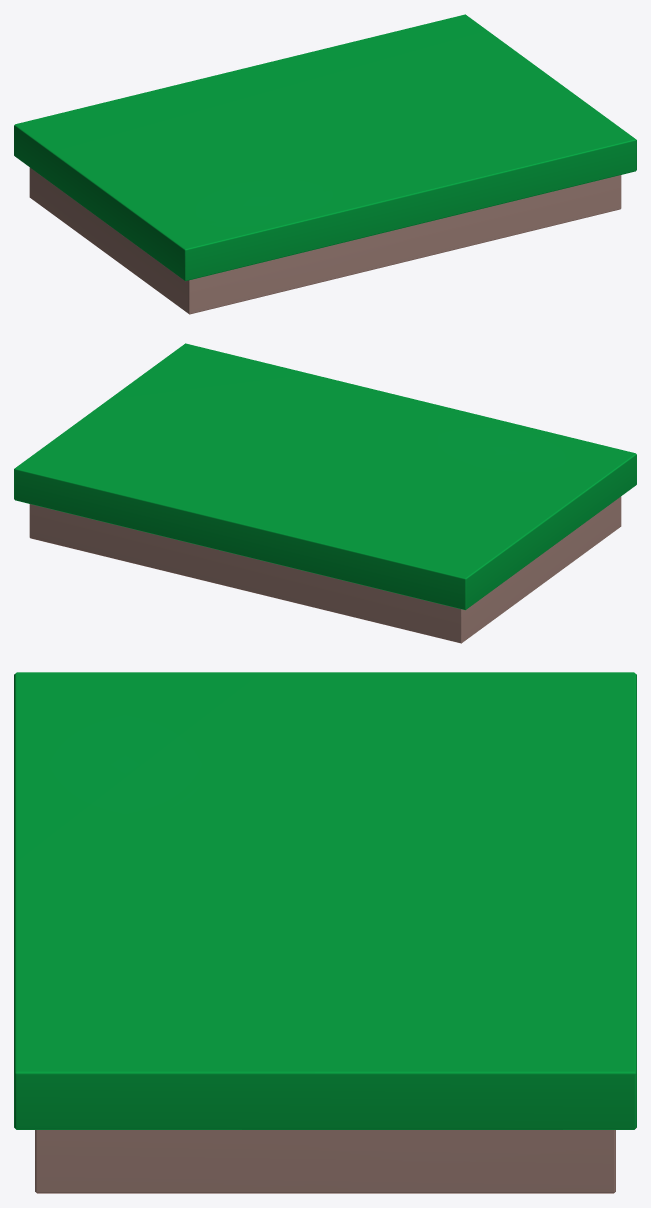
The model's file is Farm_16_Base_1.glb.
3 views of the same model, one above another, from view 1: azimuth 30°, elevation 25°; view 2: azimuth 150°, elevation 25°; view 3: azimuth 270°, elevation 25° (orthographic). The views are drawn at different scales.
Parts seen in each view (by area): view 1: Farm_16_Base_1; view 2: Farm_16_Base_1; view 3: Farm_16_Base_1.
Part boxes in pixels (left/top/right/bottom): Farm_16_Base_1: left=14, top=14, right=636, bottom=314; Farm_16_Base_1: left=14, top=343, right=636, bottom=643; Farm_16_Base_1: left=14, top=672, right=636, bottom=1193.
Bounding box in the file's own units: 16.75 × 2.55 × 11.
Materials: 1 (1 with a texture image).
